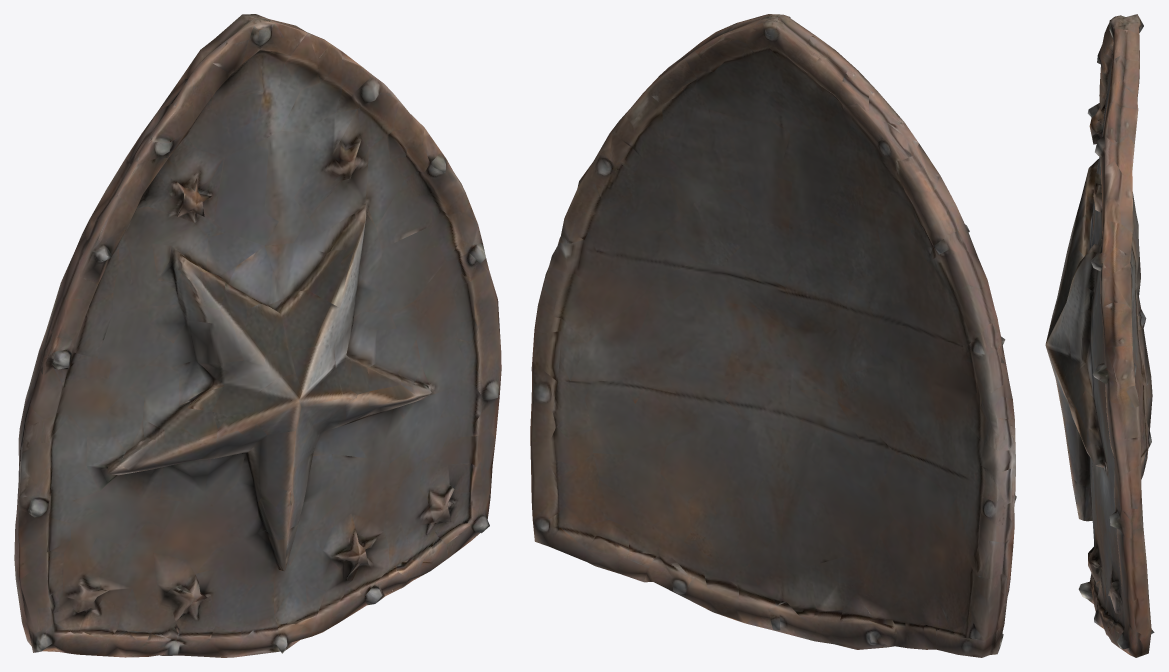
Rendered from 1744_shield.glb.
3 views of the same model, side by side, from view 1: azimuth 30°, elevation 25°; view 2: azimuth 150°, elevation 25°; view 3: azimuth 270°, elevation 25° (orthographic). The views are drawn at different scales.
Visible parts, largest first — view 1: Model; view 2: Model; view 3: Model.
Part boxes in pixels (<box>): Model: <box>14,14,501,657</box>; Model: <box>530,14,1016,657</box>; Model: <box>1045,14,1154,657</box>.
Size of the model in its own units: 0.8108 by 1 by 0.1709.
Materials: 1 (1 with a texture image).
